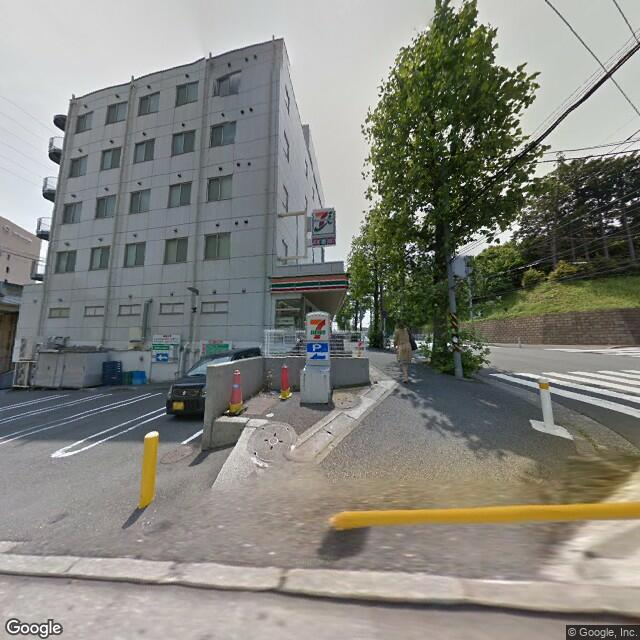7-eleven: (267, 272, 349, 297), (310, 203, 335, 238), (303, 312, 330, 343)
